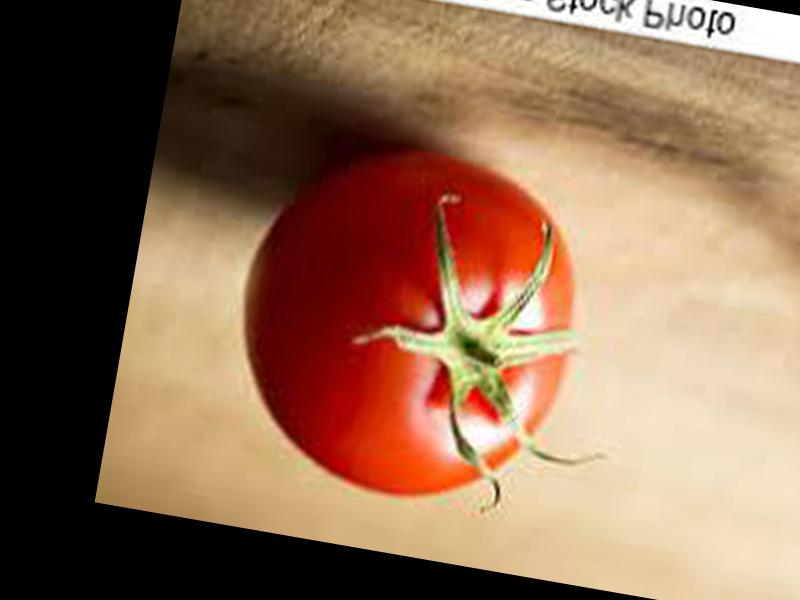Tomato: (219, 128, 602, 516)
